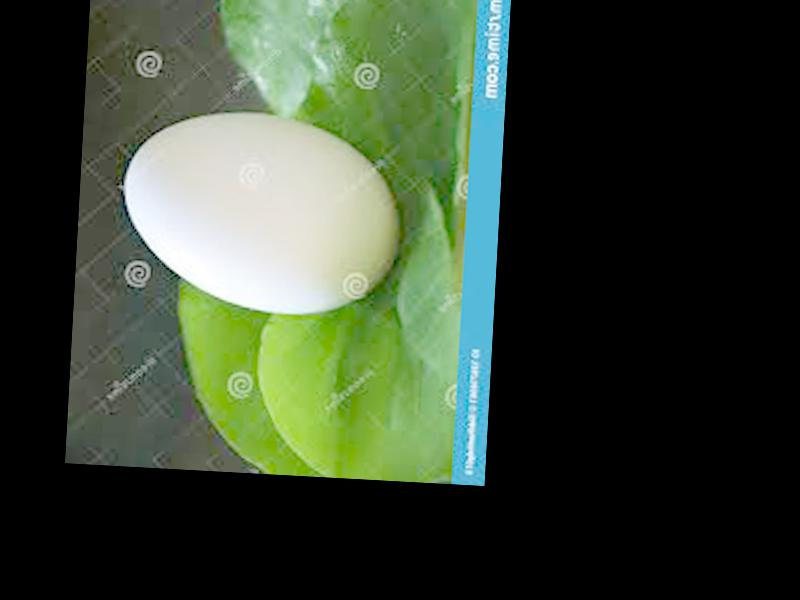Eggs: (118, 105, 403, 319)
